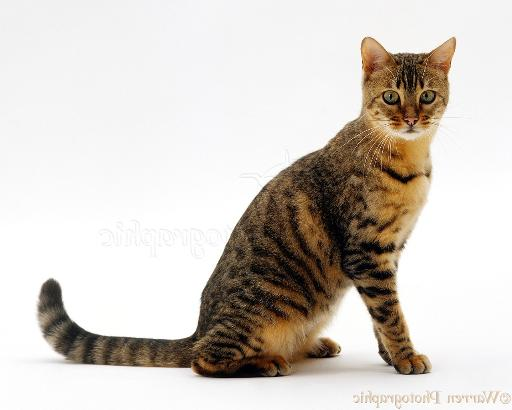cat_sitting: (38, 37, 456, 377)
